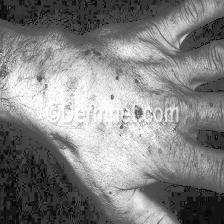Benign Marking or Mole: (78, 50, 157, 103), (96, 125, 188, 168), (0, 40, 63, 94), (132, 106, 144, 120)
